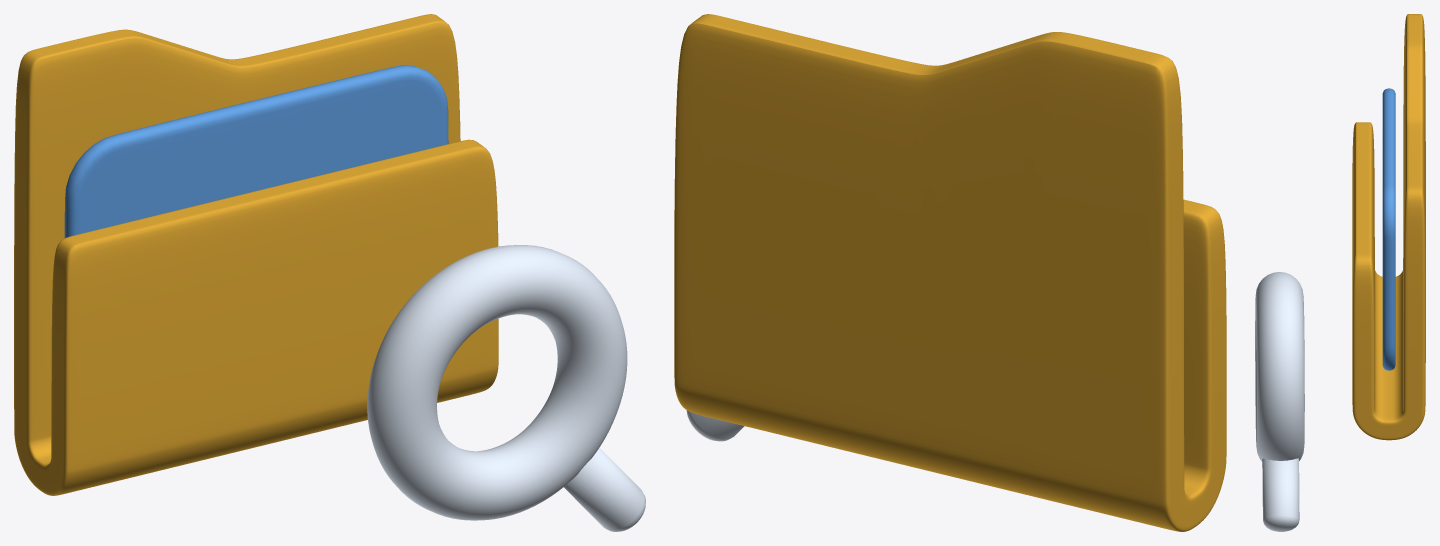
File: searching-folder-animated-3d-icon-363161959655.glb
3 views of the same model, side by side, from view 1: azimuth 30°, elevation 25°; view 2: azimuth 150°, elevation 25°; view 3: azimuth 270°, elevation 25° (orthographic). The views are drawn at different scales.
Visible parts, largest first — view 1: Folder, Torus.001, Paper, Cylinder.003; view 2: Folder, Cylinder.003; view 3: Folder, Torus.001, Paper, Cylinder.003.
Part boxes in pixels (x1=…): Folder: x1=14, y1=14, x2=498, y2=495; Torus.001: x1=367, y1=245, x2=627, y2=520; Paper: x1=64, y1=65, x2=448, y2=237; Cylinder.003: x1=564, y1=448, x2=645, y2=531; Folder: x1=674, y1=14, x2=1226, y2=531; Cylinder.003: x1=686, y1=410, x2=744, y2=441; Folder: x1=1352, y1=14, x2=1425, y2=440; Torus.001: x1=1255, y1=272, x2=1304, y2=461; Paper: x1=1382, y1=88, x2=1395, y2=370; Cylinder.003: x1=1262, y1=458, x2=1299, y2=531.
Size of the model in its own units: 2.41 by 2.29 by 0.9964.
